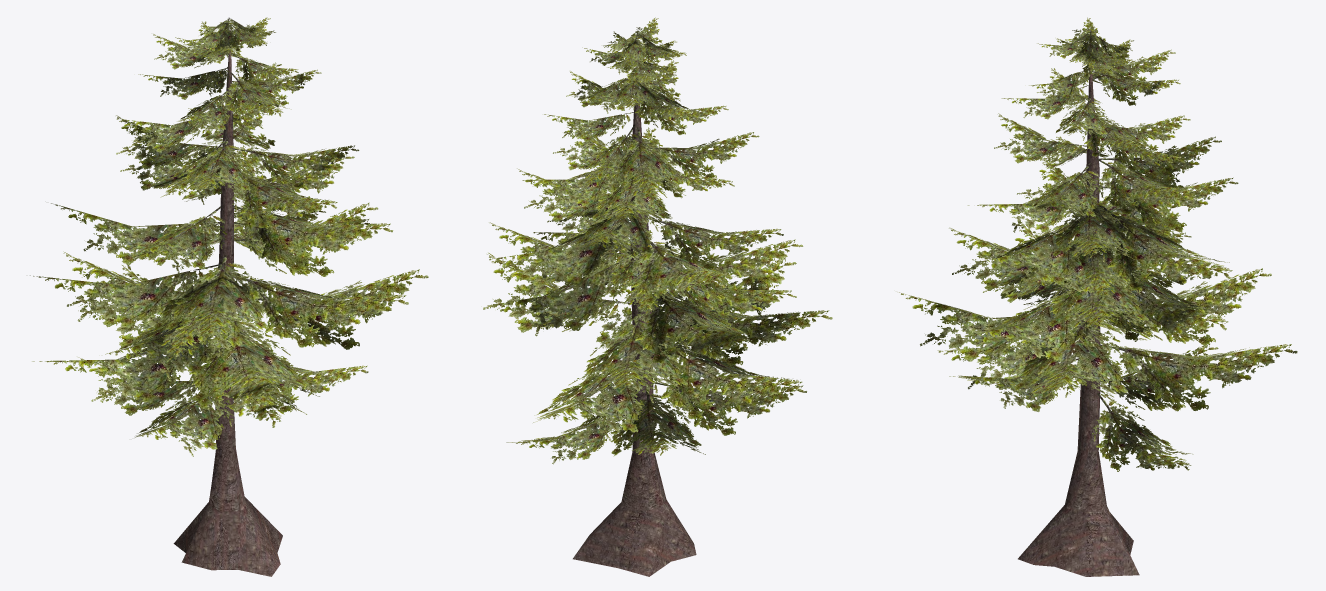
File: trees_ftree04_ftree04.glb
3 renders of one model, left to right at view 1: azimuth 30°, elevation 25°; view 2: azimuth 150°, elevation 25°; view 3: azimuth 270°, elevation 25°, orthographic. The views are drawn at different scales.
Visible parts, largest first — view 1: ftree04; view 2: ftree04; view 3: ftree04.
Part boxes in pixels (x1,y1,x2,y2): ftree04: (30,17,428,576); ftree04: (483,17,832,576); ftree04: (899,17,1297,576).
Size of the model in its own units: 11.04 by 14.62 by 10.92.
Materials: 2 (2 with a texture image).
